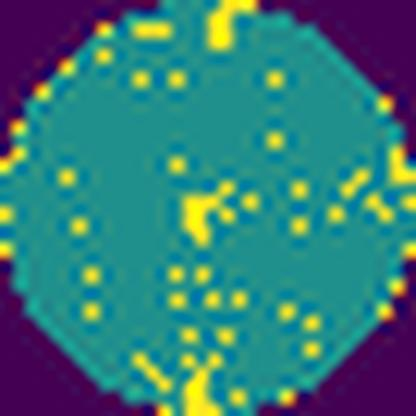Center: (178, 178, 245, 252)
